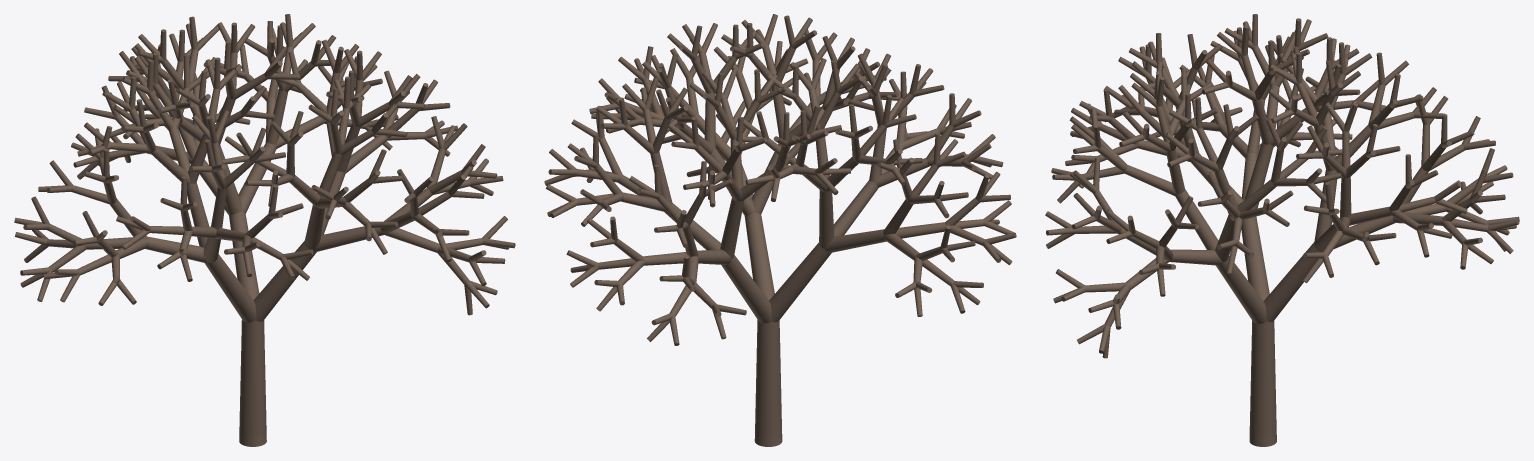
Rendered from fractaltree5.glb.
The picture shows the model from 3 angles, left to right: view 1: azimuth 30°, elevation 25°; view 2: azimuth 150°, elevation 25°; view 3: azimuth 270°, elevation 25°; orthographic projection.
Bounding box in the file's own units: 11.88 × 10.69 × 11.88.
